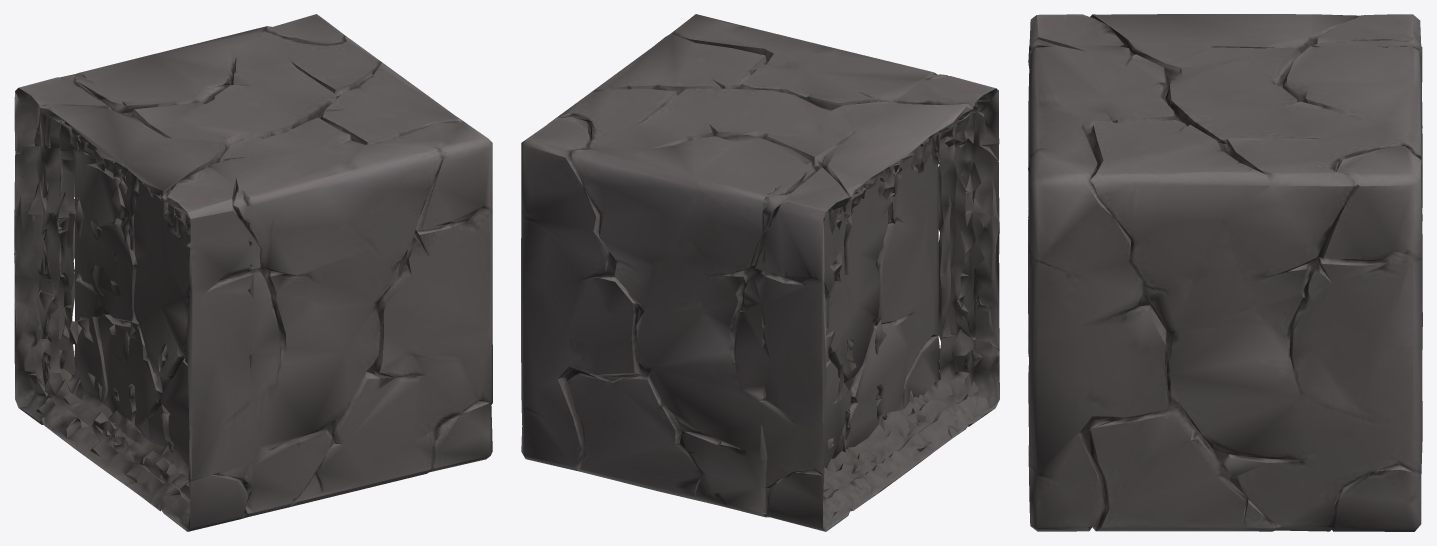
File: block_concrete_cracked_idle.glb
3 views of the same model, side by side, from view 1: azimuth 30°, elevation 25°; view 2: azimuth 150°, elevation 25°; view 3: azimuth 270°, elevation 25° (orthographic). The views are drawn at different scales.
Parts seen in each view (by area): view 1: tripo_node_46688276-d7ff-4e3f-805a-b97b238c5919; view 2: tripo_node_46688276-d7ff-4e3f-805a-b97b238c5919; view 3: tripo_node_46688276-d7ff-4e3f-805a-b97b238c5919.
Part boxes in pixels (x1,y1,x2,y2): tripo_node_46688276-d7ff-4e3f-805a-b97b238c5919: (14,14,492,531); tripo_node_46688276-d7ff-4e3f-805a-b97b238c5919: (521,14,999,531); tripo_node_46688276-d7ff-4e3f-805a-b97b238c5919: (1028,14,1422,531).
Bounding box in the file's own units: 0.9961 × 1 × 0.9955.
Materials: 1 (1 with a texture image).
